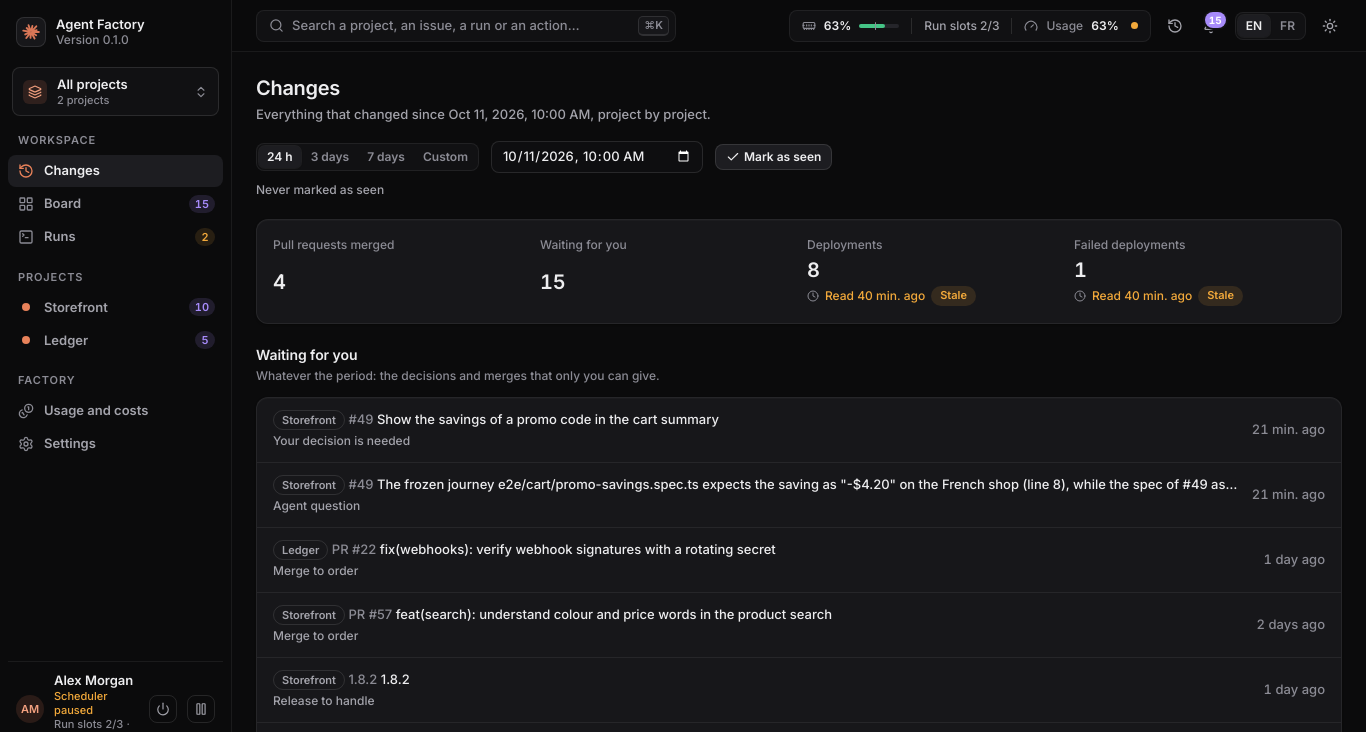
Test case: ProjectSwitcher › opens the overview of the chosen project and shows its pages in the sidebar
Click the button "All projects 2 projects".
click(116, 92)  # box [12,67,219,116]
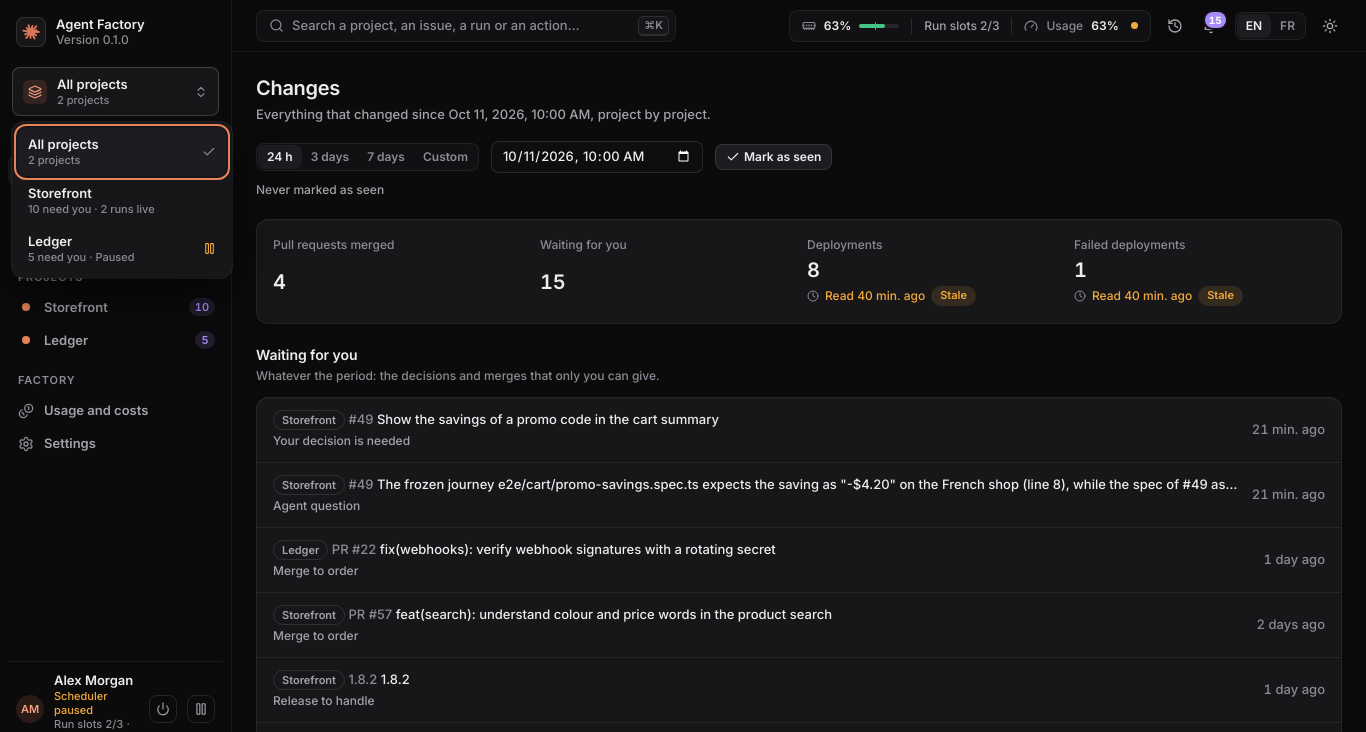
Click the link "Storefront 10 need you · 2 runs live".
click(91, 200)  # box [28,185,155,216]
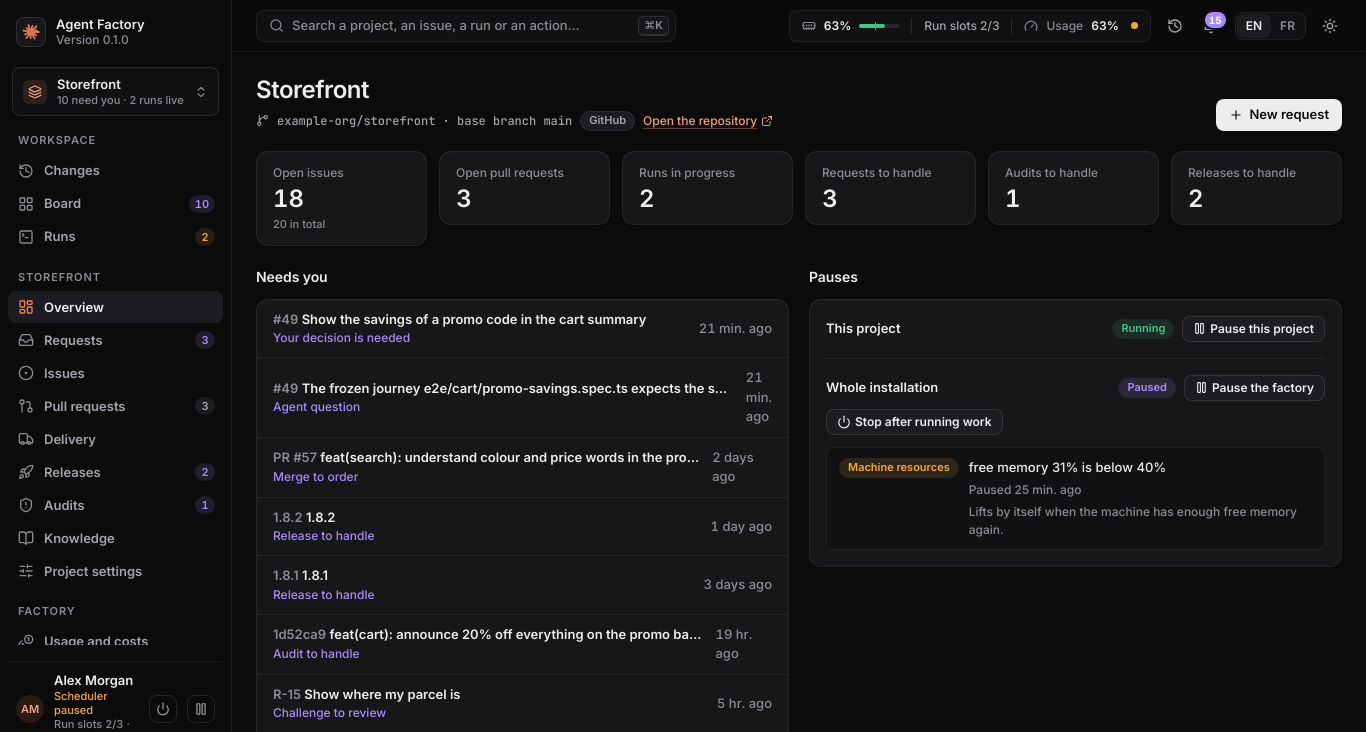
Result: the button with aria-label "Project: Storefront" shows "10 need you · 2 runs live" at [12,67,219,116]
Result: the link "Audits 1" is shown at [18,496,215,514]
Result: the button "projects" is gone
